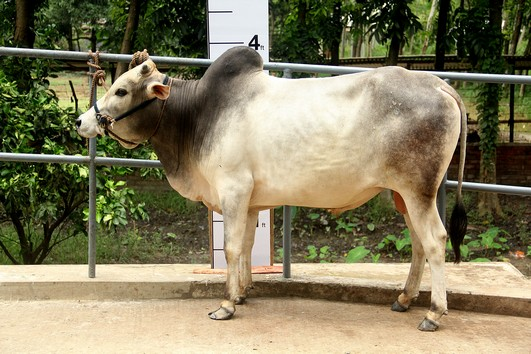cow: (64, 41, 469, 338)
